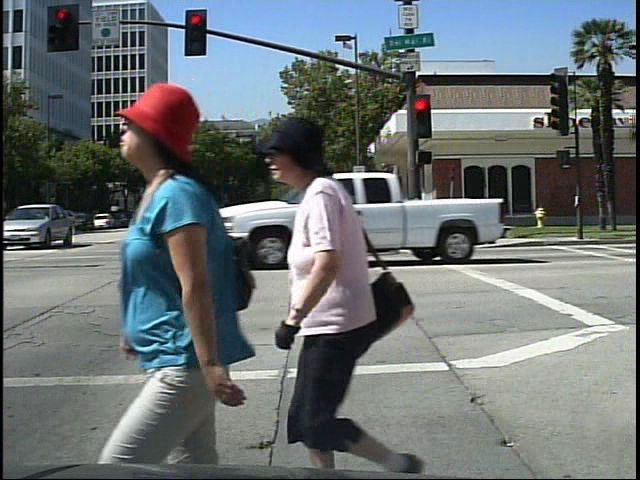person: (267, 113, 449, 477), (117, 68, 257, 468)
